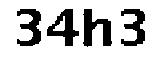3: (12, 7, 44, 53), (120, 5, 150, 49)
4: (46, 7, 80, 46)
h: (83, 5, 116, 51)
